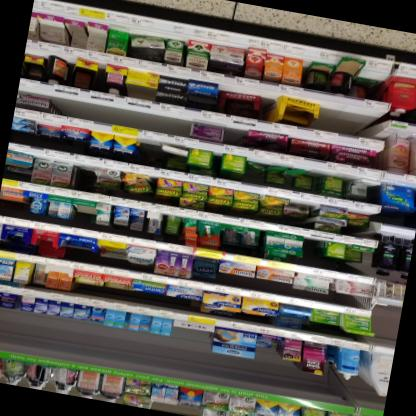empty_space: (168, 317, 211, 352), (331, 102, 363, 136), (154, 107, 191, 134), (68, 195, 98, 222), (53, 92, 84, 118), (89, 96, 117, 122), (121, 102, 150, 127), (0, 183, 24, 211), (301, 236, 325, 264), (139, 137, 164, 161)
